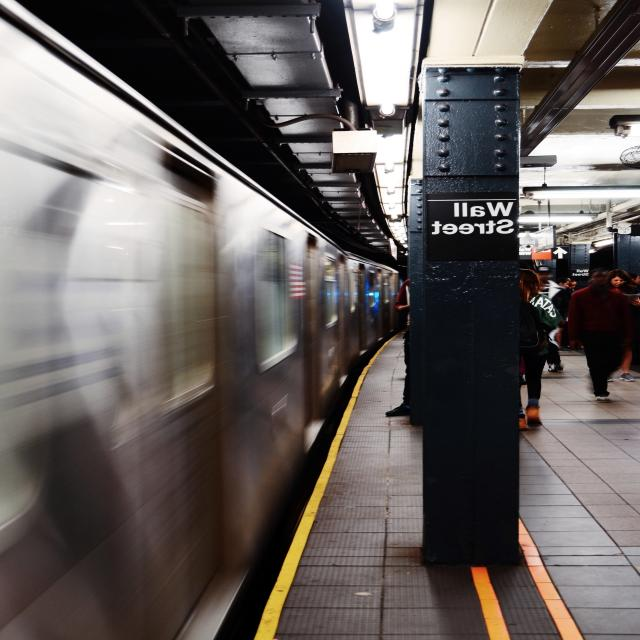adult: (568, 268, 631, 402), (516, 268, 556, 429), (606, 270, 639, 380)
